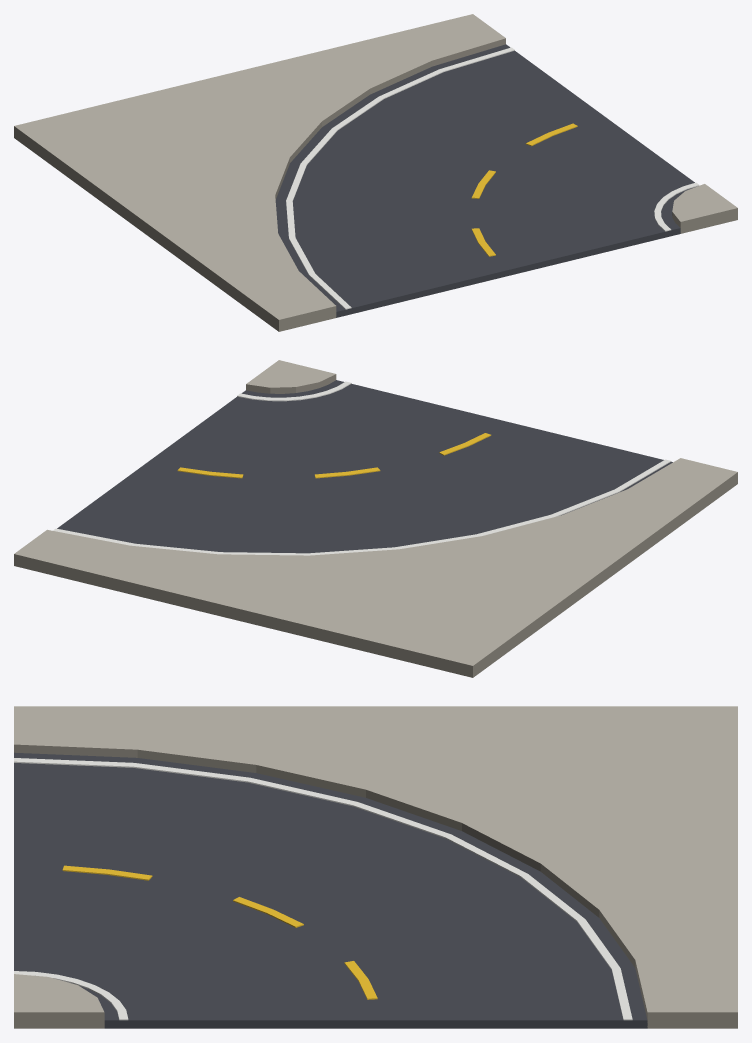
The model's file is Road_Corner.glb.
The picture shows the model from 3 angles, top to bottom: view 1: azimuth 30°, elevation 25°; view 2: azimuth 150°, elevation 25°; view 3: azimuth 270°, elevation 25°; orthographic projection. The views are drawn at different scales.
Visible parts, largest first — view 1: Road_Corner_Asphalt, Road_Corner_Sidewalk; view 2: Road_Corner_Asphalt, Road_Corner_Sidewalk; view 3: Road_Corner_Asphalt, Road_Corner_Sidewalk.
Part boxes in pixels (x1,y1,x2,y2): Road_Corner_Asphalt: (275, 44, 699, 317); Road_Corner_Sidewalk: (14, 14, 737, 331); Road_Corner_Asphalt: (53, 380, 672, 555); Road_Corner_Sidewalk: (14, 360, 737, 677); Road_Corner_Asphalt: (14, 752, 647, 1028); Road_Corner_Sidewalk: (14, 706, 737, 1028).
Bounding box in the file's own units: 11.2 × 0.28 × 11.2.
Materials: 1 (1 with a texture image).
